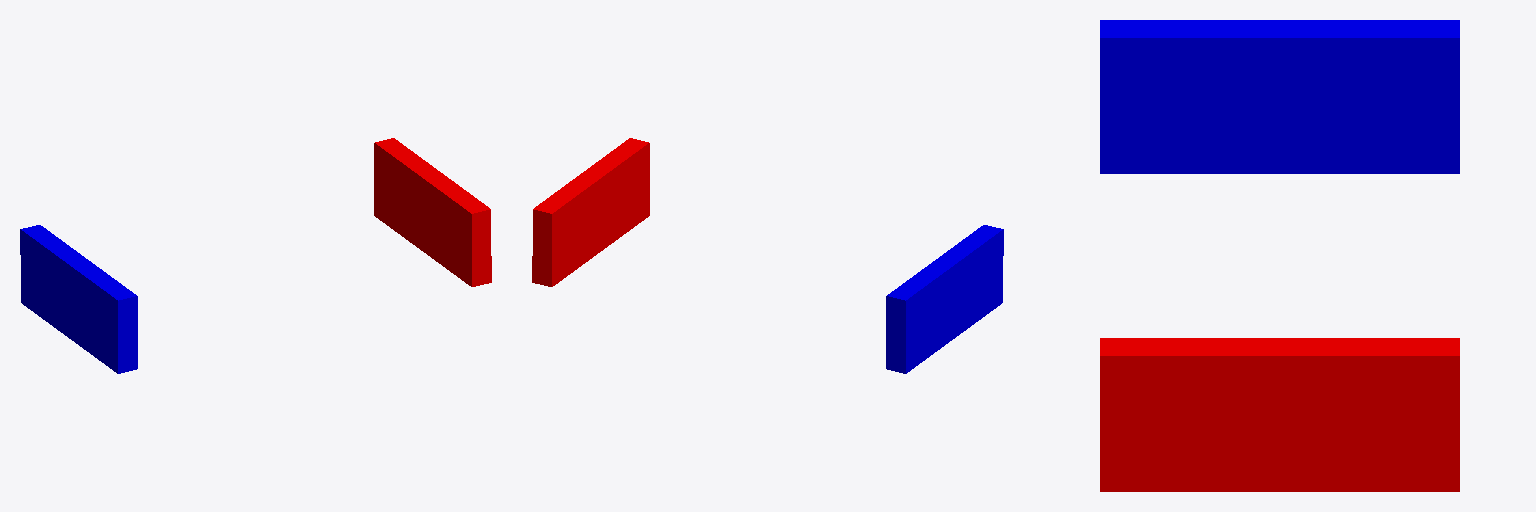
The robot description file, URDF, robot "ur5_robotiq_140":
<?xml version="1.0" ?>
<!-- =================================================================================== -->
<!-- |    This document was autogenerated by xacro from sisbot.xacro                   | -->
<!-- |    EDITING THIS FILE BY HAND IS NOT RECOMMENDED                                 | -->
<!-- =================================================================================== -->
<robot name="ur5_robotiq_140" xmlns:xacro="http://ros.org/wiki/xacro">
  <!--################################################
  ########              arm                    #######
  ####################################################-->

  <link name="base_link">
    <visual>
      <geometry>
        <mesh filename="../../../submodules/pybullet-playground-wrapper/pybullet_playground/meshes/ur5/visual/base.obj"/>
      </geometry>
      <material name="LightGrey">
        <color rgba="0.7 0.7 0.7 1.0"/>
      </material>
    </visual>
    <collision>
      <geometry>
        <mesh filename="../../../submodules/pybullet-playground-wrapper/pybullet_playground/meshes/ur5/collision/base.stl"/>
      </geometry>
    </collision>
    <inertial>
      <mass value="4.0"/>
      <origin rpy="0 0 0" xyz="0.0 0.0 0.0"/>
      <inertia ixx="0.00443333156" ixy="0.0" ixz="0.0" iyy="0.00443333156" iyz="0.0" izz="0.0072"/>
    </inertial>
  </link>

  <joint name="shoulder_pan_joint" type="revolute">
    <parent link="base_link"/>
    <child link="shoulder_link"/>
    <origin rpy="0.0 0.0 0.0" xyz="0.0 0.0 0.089159"/>
    <axis xyz="0 0 1"/>
    <limit effort="150.0" lower="-3.14159265359" upper="3.14159265359" velocity="3.15"/>
    <dynamics damping="0.0" friction="0.0"/>
  </joint>
  <link name="shoulder_link">
    <visual>
      <geometry>
        <mesh filename="../../../submodules/pybullet-playground-wrapper/pybullet_playground/meshes/ur5/visual/shoulder.obj"/>
      </geometry>
      <material name="DarkGray">
        <color rgba="0.5 0.5 0.5 1.0"/>
      </material>
    </visual>
    <collision>
      <geometry>
        <mesh filename="../../../submodules/pybullet-playground-wrapper/pybullet_playground/meshes/ur5/collision/shoulder.stl"/>
      </geometry>
    </collision>
    <inertial>
      <mass value="3.7"/>
      <origin rpy="0 0 0" xyz="0.0 0.0 0.0"/>
      <inertia ixx="0.010267495893" ixy="0.0" ixz="0.0" iyy="0.010267495893" iyz="0.0" izz="0.00666"/>
    </inertial>
  </link>
  <joint name="shoulder_lift_joint" type="revolute">
    <parent link="shoulder_link"/>
    <child link="upper_arm_link"/>
    <origin rpy="0.0 1.57079632679 0.0" xyz="0.0 0.13585 0.0"/>
    <axis xyz="0 1 0"/>
    <limit effort="150.0" lower="-3.14159265359" upper="3.14159265359" velocity="3.15"/>
    <dynamics damping="0.0" friction="0.0"/>
  </joint>
  <link name="upper_arm_link">
    <visual>
      <geometry>
        <mesh filename="../../../submodules/pybullet-playground-wrapper/pybullet_playground/meshes/ur5/visual/upperarm.obj"/>
      </geometry>
      <material name="LightGrey">
        <color rgba="0.7 0.7 0.7 1.0"/>
      </material>
    </visual>
    <collision>
      <geometry>
        <mesh filename="../../../submodules/pybullet-playground-wrapper/pybullet_playground/meshes/ur5/collision/upperarm.stl"/>
      </geometry>
    </collision>
    <inertial>
      <mass value="8.393"/>
      <origin rpy="0 0 0" xyz="0.0 0.0 0.28"/>
      <inertia ixx="0.22689067591" ixy="0.0" ixz="0.0" iyy="0.22689067591" iyz="0.0" izz="0.0151074"/>
    </inertial>
  </link>
  <joint name="elbow_joint" type="revolute">
    <parent link="upper_arm_link"/>
    <child link="forearm_link"/>
    <origin rpy="0.0 0.0 0.0" xyz="0.0 -0.1197 0.425"/>
    <axis xyz="0 1 0"/>
    <limit effort="150.0" lower="-3.14159265359" upper="3.14159265359" velocity="3.15"/>
    <dynamics damping="0.0" friction="0.0"/>
  </joint>
  <link name="forearm_link">
    <visual>
      <geometry>
        <mesh filename="../../../submodules/pybullet-playground-wrapper/pybullet_playground/meshes/ur5/visual/forearm.obj"/>
      </geometry>
      <material name="LightGrey">
        <color rgba="0.7 0.7 0.7 1.0"/>
      </material>
    </visual>
    <collision>
      <geometry>
        <mesh filename="../../../submodules/pybullet-playground-wrapper/pybullet_playground/meshes/ur5/collision/forearm.stl"/>
      </geometry>
    </collision>
    <inertial>
      <mass value="2.275"/>
      <origin rpy="0 0 0" xyz="0.0 0.0 0.25"/>
      <inertia ixx="0.049443313556" ixy="0.0" ixz="0.0" iyy="0.049443313556" iyz="0.0" izz="0.004095"/>
    </inertial>
  </link>
  <joint name="wrist_1_joint" type="revolute">
    <parent link="forearm_link"/>
    <child link="wrist_1_link"/>
    <origin rpy="0.0 1.57079632679 0.0" xyz="0.0 0.0 0.39225"/>
    <axis xyz="0 1 0"/>
    <limit effort="28.0" lower="-3.14159265359" upper="3.14159265359" velocity="3.2"/>
    <dynamics damping="0.0" friction="0.0"/>
  </joint>
  <link name="wrist_1_link">
    <visual>
      <geometry>
        <mesh filename="../../../submodules/pybullet-playground-wrapper/pybullet_playground/meshes/ur5/visual/wrist1.obj"/>
      </geometry>
      <material name="DarkGray">
        <color rgba="0.5 0.5 0.5 1.0"/>
      </material>
    </visual>
    <collision>
      <geometry>
        <mesh filename="../../../submodules/pybullet-playground-wrapper/pybullet_playground/meshes/ur5/collision/wrist1.stl"/>
      </geometry>
    </collision>
    <inertial>
      <mass value="1.219"/>
      <origin rpy="0 0 0" xyz="0.0 0.0 0.0"/>
      <inertia ixx="0.111172755531" ixy="0.0" ixz="0.0" iyy="0.111172755531" iyz="0.0" izz="0.21942"/>
    </inertial>
  </link>
  <joint name="wrist_2_joint" type="revolute">
    <parent link="wrist_1_link"/>
    <child link="wrist_2_link"/>
    <origin rpy="0.0 0.0 0.0" xyz="0.0 0.093 0.0"/>
    <axis xyz="0 0 1"/>
    <limit effort="28.0" lower="-3.14159265359" upper="3.14159265359" velocity="3.2"/>
    <dynamics damping="0.0" friction="0.0"/>
  </joint>
  <link name="wrist_2_link">
    <visual>
      <geometry>
        <mesh filename="../../../submodules/pybullet-playground-wrapper/pybullet_playground/meshes/ur5/visual/wrist2.obj"/>
      </geometry>
      <material name="DarkGray">
        <color rgba="0.5 0.5 0.5 1.0"/>
      </material>
    </visual>
    <collision>
      <geometry>
        <mesh filename="../../../submodules/pybullet-playground-wrapper/pybullet_playground/meshes/ur5/collision/wrist2.stl"/>
      </geometry>
    </collision>
    <inertial>
      <mass value="1.219"/>
      <origin rpy="0 0 0" xyz="0.0 0.0 0.0"/>
      <inertia ixx="0.111172755531" ixy="0.0" ixz="0.0" iyy="0.111172755531" iyz="0.0" izz="0.21942"/>
    </inertial>
  </link>
  <joint name="wrist_3_joint" type="revolute">
    <parent link="wrist_2_link"/>
    <child link="wrist_3_link"/>
    <origin rpy="0.0 0.0 0.0" xyz="0.0 0.0 0.09465"/>
    <axis xyz="0 1 0"/>
    <limit effort="28.0" lower="-3.14159265359" upper="3.14159265359" velocity="3.2"/>
    <dynamics damping="0.0" friction="0.0"/>
  </joint>
  <link name="wrist_3_link">
    <visual>
      <geometry>
        <mesh filename="../../../submodules/pybullet-playground-wrapper/pybullet_playground/meshes/ur5/visual/wrist3.obj"/>
      </geometry>
      <material name="LightGrey">
        <color rgba="0.7 0.7 0.7 1.0"/>
      </material>
    </visual>
    <collision>
      <geometry>
        <mesh filename="../../../submodules/pybullet-playground-wrapper/pybullet_playground/meshes/ur5/collision/wrist3.stl"/>
      </geometry>
    </collision>
    <inertial>
      <mass value="0.1879"/>
      <origin rpy="0 0 0" xyz="0.0 0.0 0.0"/>
      <inertia ixx="0.0171364731454" ixy="0.0" ixz="0.0" iyy="0.0171364731454" iyz="0.0" izz="0.033822"/>
    </inertial>
  </link>
  <joint name="ee_fixed_joint" type="fixed">
    <parent link="wrist_3_link"/>
    <child link="ee_link"/>
    <origin rpy="0.0 0.0 1.57079632679" xyz="0.0 0.0823 0.0"/>
  </joint>
  <link name="ee_link">
    <collision>
      <geometry>
        <box size="0.01 0.01 0.01"/>
      </geometry>
      <origin rpy="0 0 0" xyz="-0.01 0 0"/>
    </collision>
  </link>

  <!--################################################
  ########              gripper                  #####
  ####################################################-->

  <link name="robotiq_arg2f_base_link">
    <inertial>
      <origin rpy="0 0 0" xyz="8.625E-08 -4.6583E-06 0.03145"/>
      <mass value="0.22652"/>
      <inertia ixx="0.00020005" ixy="-4.2442E-10" ixz="-2.9069E-10" iyy="0.00017832" iyz="-3.4402E-08" izz="0.00013478"/>
    </inertial>
    <visual>
      <origin rpy="0 0 0" xyz="0 0 0"/>
      <geometry>
        <mesh filename="../../../submodules/pybullet-playground-wrapper/pybullet_playground/meshesrobotiq_140/visual/robotiq_arg2f_base_link.stl"/>
      </geometry>
      <material name="">
        <color rgba="0.1 0.1 0.1 1"/>
      </material>
    </visual>
    <collision>
      <origin rpy="0 0 0" xyz="0 0 0"/>
      <geometry>
        <mesh filename="../../../submodules/pybullet-playground-wrapper/pybullet_playground/meshesrobotiq_140/collision/robotiq_arg2f_base_link.stl"/>
      </geometry>
    </collision>
  </link>
  <link name="left_outer_knuckle">
    <inertial>
      <origin rpy="0 0 0" xyz="-0.000200000000003065 0.0199435877845359 0.0292245259211331"/>
      <mass value="0.00853198276973456"/>
      <inertia ixx="2.89328108496468E-06" ixy="-1.57935047237397E-19" ixz="-1.93980378593255E-19" iyy="1.86719750325683E-06" iyz="-1.21858577871576E-06" izz="1.21905238907251E-06"/>
    </inertial>
    <visual>
      <origin rpy="0 0 0" xyz="0 0 0"/>
      <geometry>
        <mesh filename="../../../submodules/pybullet-playground-wrapper/pybullet_playground/meshesrobotiq_140/visual/robotiq_arg2f_140_outer_knuckle.stl"/>
      </geometry>
      <material name="">
        <color rgba="0.792156862745098 0.819607843137255 0.933333333333333 0.1"/>
      </material>
    </visual>
    <collision>
      <origin rpy="0 0 0" xyz="0 0 0"/>
      <geometry>
        <mesh filename="../../../submodules/pybullet-playground-wrapper/pybullet_playground/meshesrobotiq_140/collision/robotiq_arg2f_140_outer_knuckle.stl"/>
      </geometry>
    </collision>
  </link>
  <link name="left_outer_finger">
    <inertial>
      <origin rpy="0 0 0" xyz="0.00030115855001899 0.0373907951953854 -0.0208027427000385"/>
      <mass value="0.022614240507152"/>
      <inertia ixx="1.52518312458174E-05" ixy="9.76583423954399E-10" ixz="-5.43838577022588E-10" iyy="6.17694243867776E-06" iyz="6.78636130740228E-06" izz="1.16494917907219E-05"/>
    </inertial>
    <visual>
      <origin rpy="0 0 0" xyz="0 0 0"/>
      <geometry>
        <mesh filename="../../../submodules/pybullet-playground-wrapper/pybullet_playground/meshesrobotiq_140/visual/robotiq_arg2f_140_outer_finger.stl"/>
      </geometry>
      <material name="">
        <color rgba="0.1 0.1 0.1 0.2"/>
      </material>
    </visual>
    <collision>
      <origin rpy="0 0 0" xyz="0 0 0"/>
      <geometry>
        <mesh filename="../../../submodules/pybullet-playground-wrapper/pybullet_playground/meshesrobotiq_140/collision/robotiq_arg2f_140_outer_finger.stl"/>
      </geometry>
    </collision>
  </link>
  <link name="left_inner_finger">
    <inertial>
      <origin rpy="0 0 0" xyz="0.000299999999999317 0.0160078233491243 -0.0136945669206257"/>
      <mass value="0.0104003125914103"/>
      <inertia ixx="2.71909453810972E-06" ixy="1.35402465472579E-21" ixz="-7.1817349065269E-22" iyy="7.69100314106116E-07" iyz="6.74715432769696E-07" izz="2.30315190420171E-06"/>
    </inertial>
    <visual>
      <origin rpy="0 0 0" xyz="0 0 0"/>
      <geometry>
        <mesh filename="../../../submodules/pybullet-playground-wrapper/pybullet_playground/meshesrobotiq_140/visual/robotiq_arg2f_140_inner_finger.stl"/>
      </geometry>
      <material name="">
        <color rgba="0.1 0.1 0.1 0.3"/>
      </material>
    </visual>
    <collision>
      <origin rpy="0 0 0" xyz="0 0 0"/>
      <geometry>
        <mesh filename="../../../submodules/pybullet-playground-wrapper/pybullet_playground/meshesrobotiq_140/collision/robotiq_arg2f_140_inner_finger.stl"/>
      </geometry>
    </collision>
  </link>
  <link name="left_inner_finger_pad">
    <inertial>
      <mass value="1."/>
      <inertia ixx="1E-10" ixy="1E-10" ixz="1E-10" iyy="1E-10" iyz="1E-10" izz="1E-10"/>
    </inertial>

    <visual>
      <origin rpy="0 0 0" xyz="0 0 0"/>
      <geometry>
        <box size="0.027 0.065 0.0075"/>
      </geometry>
      <material name="">
        <color rgba="0 0 1 1"/>
      </material>
    </visual>
    <collision>
      <origin rpy="0 0 0" xyz="0 0 0"/>
      <geometry>
        <box size="0.03 0.07 0.0075"/>
      </geometry>
      <material name="">
        <color rgba="0.9 0.0 0.0 1"/>
      </material>
    </collision>
  </link>
  <link name="left_inner_knuckle">
    <inertial>
      <origin rpy="0 0 0" xyz="0.000123011831763771 0.0507850843201817 0.00103968640075166"/>
      <mass value="0.0271177346495152"/>
      <inertia ixx="2.61910379223783E-05" ixy="-2.43616858946494E-07" ixz="-6.37789906117123E-09" iyy="2.8270243746167E-06" iyz="-5.37200748039765E-07" izz="2.83695868220296E-05"/>
    </inertial>
    <visual>
      <origin rpy="0 0 0" xyz="0 0 0"/>
      <geometry>
        <mesh filename="../../../submodules/pybullet-playground-wrapper/pybullet_playground/meshesrobotiq_140/visual/robotiq_arg2f_140_inner_knuckle.stl"/>
      </geometry>
      <material name="">
        <color rgba="0.1 0.1 0.1 1"/>
      </material>
    </visual>
    <collision>
      <origin rpy="0 0 0" xyz="0 0 0"/>
      <geometry>
        <mesh filename="../../../submodules/pybullet-playground-wrapper/pybullet_playground/meshesrobotiq_140/collision/robotiq_arg2f_140_inner_knuckle.stl"/>
      </geometry>
    </collision>
  </link>
  <link name="right_outer_knuckle">
    <inertial>
      <origin rpy="0 0 0" xyz="-0.000200000000003065 0.0199435877845359 0.0292245259211331"/>
      <mass value="0.00853198276973456"/>
      <inertia ixx="2.89328108496468E-06" ixy="-1.57935047237397E-19" ixz="-1.93980378593255E-19" iyy="1.86719750325683E-06" iyz="-1.21858577871576E-06" izz="1.21905238907251E-06"/>
    </inertial>
    <visual>
      <origin rpy="0 0 0" xyz="0 0 0"/>
      <geometry>
        <mesh filename="../../../submodules/pybullet-playground-wrapper/pybullet_playground/meshesrobotiq_140/visual/robotiq_arg2f_140_outer_knuckle.stl"/>
      </geometry>
      <material name="">
        <color rgba="0.792156862745098 0.819607843137255 0.933333333333333 1"/>
      </material>
    </visual>
    <collision>
      <origin rpy="0 0 0" xyz="0 0 0"/>
      <geometry>
        <mesh filename="../../../submodules/pybullet-playground-wrapper/pybullet_playground/meshesrobotiq_140/collision/robotiq_arg2f_140_outer_knuckle.stl"/>
      </geometry>
    </collision>
  </link>
  <link name="right_outer_finger">
    <inertial>
      <origin rpy="0 0 0" xyz="0.00030115855001899 0.0373907951953854 -0.0208027427000385"/>
      <mass value="0.022614240507152"/>
      <inertia ixx="1.52518312458174E-05" ixy="9.76583423954399E-10" ixz="-5.43838577022588E-10" iyy="6.17694243867776E-06" iyz="6.78636130740228E-06" izz="1.16494917907219E-05"/>
    </inertial>
    <visual>
      <origin rpy="0 0 0" xyz="0 0 0"/>
      <geometry>
        <mesh filename="../../../submodules/pybullet-playground-wrapper/pybullet_playground/meshesrobotiq_140/visual/robotiq_arg2f_140_outer_finger.stl"/>
      </geometry>
      <material name="">
        <color rgba="0.1 0.1 0.1 1"/>
      </material>
    </visual>
    <collision>
      <origin rpy="0 0 0" xyz="0 0 0"/>
      <geometry>
        <mesh filename="../../../submodules/pybullet-playground-wrapper/pybullet_playground/meshesrobotiq_140/collision/robotiq_arg2f_140_outer_finger.stl"/>
      </geometry>
    </collision>
  </link>
  <link name="right_inner_finger">
    <inertial>
      <origin rpy="0 0 0" xyz="0.000299999999999317 0.0160078233491243 -0.0136945669206257"/>
      <mass value="0.0104003125914103"/>
      <inertia ixx="2.71909453810972E-06" ixy="1.35402465472579E-21" ixz="-7.1817349065269E-22" iyy="7.69100314106116E-07" iyz="6.74715432769696E-07" izz="2.30315190420171E-06"/>
    </inertial>
    <visual>
      <origin rpy="0 0 0" xyz="0 0 0"/>
      <geometry>
        <mesh filename="../../../submodules/pybullet-playground-wrapper/pybullet_playground/meshesrobotiq_140/visual/robotiq_arg2f_140_inner_finger.stl"/>
      </geometry>
      <material name="">
        <color rgba="0.1 0.1 0.1 1"/>
      </material>
    </visual>
    <collision>
      <origin rpy="0 0 0" xyz="0 0 0"/>
      <geometry>
        <mesh filename="../../../submodules/pybullet-playground-wrapper/pybullet_playground/meshesrobotiq_140/collision/robotiq_arg2f_140_inner_finger.stl"/>
      </geometry>
    </collision>
  </link>
  <link name="right_inner_finger_pad">
    <inertial>
      <mass value="1."/>
      <inertia ixx="1E-10" ixy="1E-10" ixz="1E-10" iyy="1E-10" iyz="1E-10" izz="1E-10"/>
    </inertial>

    <visual>
      <origin rpy="0 0 0" xyz="0 0 0"/>
      <geometry>
        <box size="0.027 0.065 0.0075"/>
      </geometry>
      <material name="">
        <color rgba="1 0 0 1"/>
      </material>
    </visual>
    <collision>
      <origin rpy="0 0 0" xyz="0 0 0"/>
      <geometry>
        <box size="0.03 0.07 0.0075"/>
      </geometry>
      <material name="">
        <color rgba="0.9 0.0 0.0 1"/>
      </material>
    </collision>
  </link>
  <link name="right_inner_knuckle">
    <inertial>
      <origin rpy="0 0 0" xyz="0.000123011831763771 0.0507850843201817 0.00103968640075166"/>
      <mass value="0.0271177346495152"/>
      <inertia ixx="2.61910379223783E-05" ixy="-2.43616858946494E-07" ixz="-6.37789906117123E-09" iyy="2.8270243746167E-06" iyz="-5.37200748039765E-07" izz="2.83695868220296E-05"/>
    </inertial>
    <visual>
      <origin rpy="0 0 0" xyz="0 0 0"/>
      <geometry>
        <mesh filename="../../../submodules/pybullet-playground-wrapper/pybullet_playground/meshesrobotiq_140/visual/robotiq_arg2f_140_inner_knuckle.stl"/>
      </geometry>
      <material name="">
        <color rgba="0.1 0.1 0.1 1"/>
      </material>
    </visual>
    <collision>
      <origin rpy="0 0 0" xyz="0 0 0"/>
      <geometry>
        <mesh filename="../../../submodules/pybullet-playground-wrapper/pybullet_playground/meshesrobotiq_140/collision/robotiq_arg2f_140_inner_knuckle.stl"/>
      </geometry>
    </collision>
  </link>
  <joint name="finger_joint" type="revolute">
    <origin rpy="2.2957963267948966 0 0" xyz="0 -0.030601 0.054905"/>
    <parent link="robotiq_arg2f_base_link"/>
    <child link="left_outer_knuckle"/>
    <axis xyz="-1 0 0"/>
    <limit effort="1000" lower="0" upper="0.7" velocity="2.0"/>
  </joint>
  <joint name="left_outer_finger_joint" type="fixed">
    <origin rpy="0 0 0" xyz="0 0.01821998610742 0.0260018192872234"/>
    <parent link="left_outer_knuckle"/>
    <child link="left_outer_finger"/>
    <axis xyz="1 0 0"/>
  </joint>
  <joint name="left_inner_knuckle_joint" type="revolute">
    <origin rpy="2.2957963267948966 0 0.0" xyz="0 -0.0127 0.06142"/>
    <parent link="robotiq_arg2f_base_link"/>
    <child link="left_inner_knuckle"/>
    <axis xyz="1 0 0"/>
    <limit effort="1000" upper="0" lower="-0.8757" velocity="2.0"/>
    <mimic joint="finger_joint" multiplier="-1" offset="0"/>
  </joint>
  <joint name="left_inner_finger_joint" type="revolute">
    <origin rpy="-0.725 0 0" xyz="0 0.0817554015893473 -0.0282203446692936"/>
    <parent link="left_outer_finger"/>
    <child link="left_inner_finger"/>
    <axis xyz="1 0 0"/>
    <limit effort="1000" lower="0" upper="0.8757" velocity="2.0"/>
    <mimic joint="finger_joint" multiplier="1" offset="0"/>
  </joint>
  <joint name="left_inner_finger_pad_joint" type="fixed">
    <origin rpy="0 0 0" xyz="0 0.0457554015893473 -0.0272203446692936"/>
    <parent link="left_inner_finger"/>
    <child link="left_inner_finger_pad"/>
    <axis xyz="0 0 1"/>
  </joint>
  <joint name="right_outer_knuckle_joint" type="revolute">
    <origin rpy="2.2957963267948966 0 3.141592653589793" xyz="0 0.030601 0.054905"/>
    <parent link="robotiq_arg2f_base_link"/>
    <child link="right_outer_knuckle"/>
    <axis xyz="1 0 0"/>
    <limit effort="1000" upper="0" lower="-0.725" velocity="2.0"/>
    <mimic joint="finger_joint" multiplier="-1" offset="0"/>
  </joint>
  <joint name="right_outer_finger_joint" type="fixed">
    <origin rpy="0 0 0" xyz="0 0.01821998610742 0.0260018192872234"/>
    <parent link="right_outer_knuckle"/>
    <child link="right_outer_finger"/>
    <axis xyz="1 0 0"/>
  </joint>
  <joint name="right_inner_knuckle_joint" type="revolute">
    <origin rpy="2.2957963267948966 0 -3.141592653589793" xyz="0 0.0127 0.06142"/>
    <parent link="robotiq_arg2f_base_link"/>
    <child link="right_inner_knuckle"/>
    <axis xyz="1 0 0"/>
    <limit effort="1000" upper="0" lower="-0.8757" velocity="2.0"/>
    <mimic joint="finger_joint" multiplier="-1" offset="0"/>
  </joint>
  <joint name="right_inner_finger_joint" type="revolute">
    <origin rpy="-0.725 0 0" xyz="0 0.0817554015893473 -0.0282203446692936"/>
    <parent link="right_outer_finger"/>
    <child link="right_inner_finger"/>
    <axis xyz="1 0 0"/>
    <limit effort="1000" lower="0" upper="0.8757" velocity="2.0"/>
    <mimic joint="finger_joint" multiplier="1" offset="0"/>
  </joint>
  <joint name="right_inner_finger_pad_joint" type="fixed">
    <origin rpy="0 0 0" xyz="0 0.0457554015893473 -0.0272203446692936"/>
    <parent link="right_inner_finger"/>
    <child link="right_inner_finger_pad"/>
    <axis xyz="0 0 1"/>
  </joint>
<!--  <transmission name="finger_joint_trans">-->
<!--    <type>transmission_interface/SimpleTransmission</type>-->
<!--    <joint name="finger_joint">-->
<!--      <hardwareInterface>PositionJointInterface</hardwareInterface>-->
<!--    </joint>-->
<!--    <actuator name="finger_joint_motor">-->
<!--      <mechanicalReduction>1</mechanicalReduction>-->
<!--    </actuator>-->
<!--  </transmission>-->

<!--################################################
  ########          connect model                #####
  ####################################################-->

  <link name="world"/>
  <!-- connect gripper to arm -->
  <joint name="arm_gripper_joint" type="fixed">
    <parent link="ee_link"/>
    <child link="robotiq_arg2f_base_link"/>
    <origin rpy="-1.57 1.57 -1.57" xyz="0.0 0.0 0.0"/>
  </joint>

  <!-- connect arm to world -->
  <joint name="world_arm_joint" type="fixed">
    <parent link="world"/>
    <child link="base_link"/>
    <origin rpy="0.0 0.0 0" xyz="0 0 0"/>
  </joint>


</robot>

--- Facts derived from the render (not from the file) ---
The picture shows the robot from 3 angles, left to right: view 1: azimuth 30°, elevation 25°; view 2: azimuth 150°, elevation 25°; view 3: azimuth 270°, elevation 25°; orthographic projection.
Model ur5_robotiq_140 with 20 links and 19 joints (12 revolute, 7 fixed), rooted at world, posed every joint at zero.
Visible links, largest first — view 1: right_inner_finger_pad, left_inner_finger_pad; view 2: left_inner_finger_pad, right_inner_finger_pad; view 3: left_inner_finger_pad, right_inner_finger_pad.
Link boxes in pixels (<box>): right_inner_finger_pad: <box>374,138,491,286</box>; left_inner_finger_pad: <box>20,225,137,373</box>; left_inner_finger_pad: <box>886,225,1003,373</box>; right_inner_finger_pad: <box>532,138,649,286</box>; left_inner_finger_pad: <box>1100,20,1459,173</box>; right_inner_finger_pad: <box>1100,338,1459,491</box>.
Size in the robot's own frame: 0.1436 by 0.065 by 0.0271 metres.
Meshes: 12 distinct files referenced, 0 mesh visuals loaded (none loaded); not drawn: 16 (reference not matched to a file when rendering).